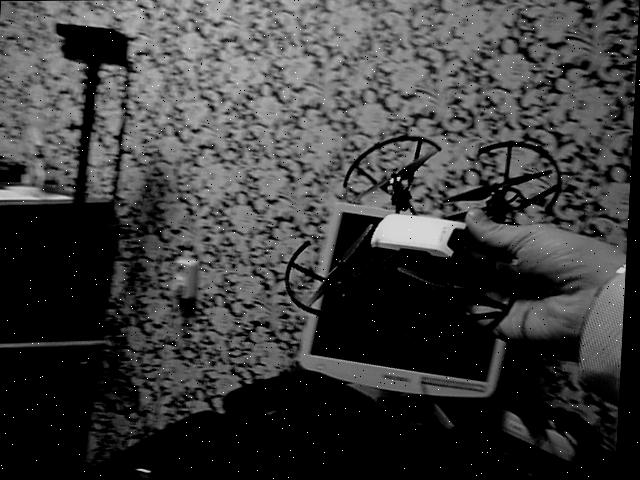drone: (276, 126, 574, 353)
